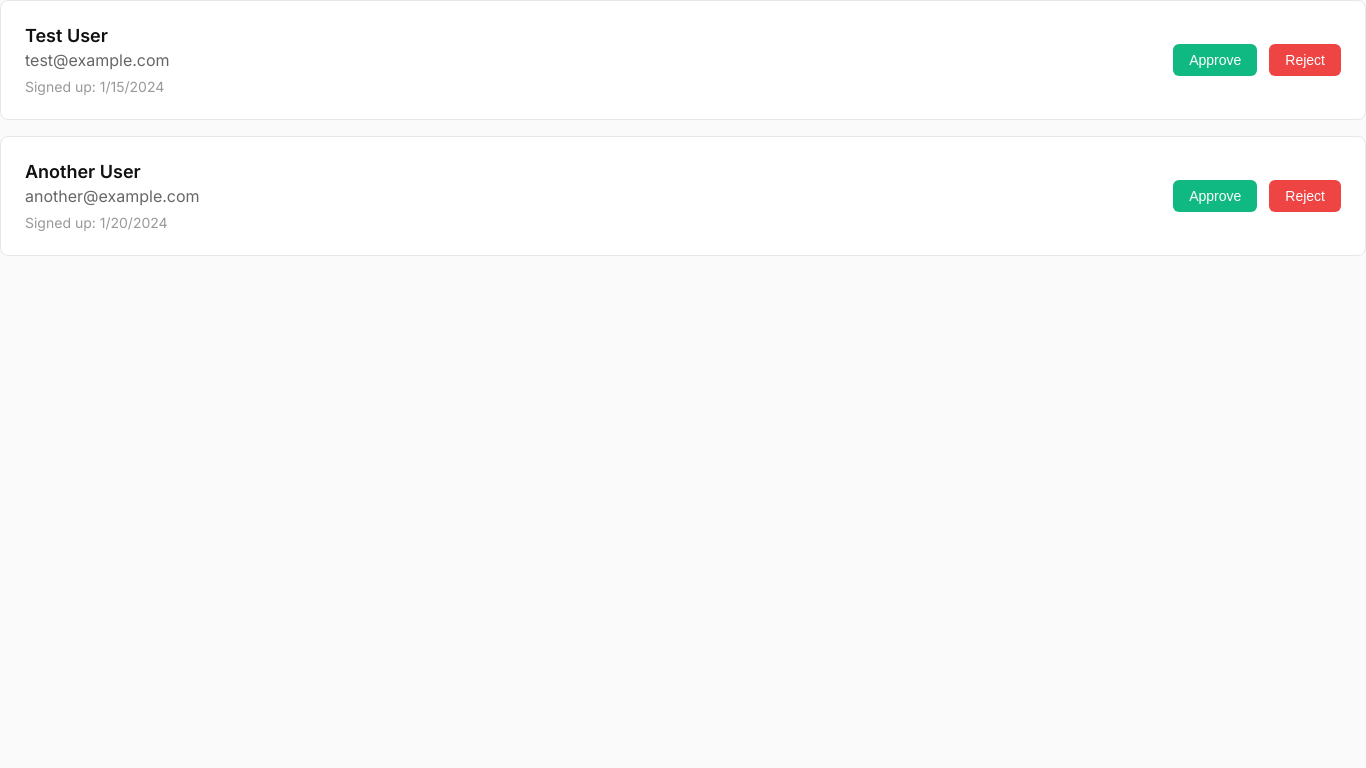
Test case: UserList › shows confirmation modal when reject is clicked
Click the button "Reject" in the row of "test@example.com".
click(1305, 60)  # box x1=1269 y1=44 x2=1341 y2=76
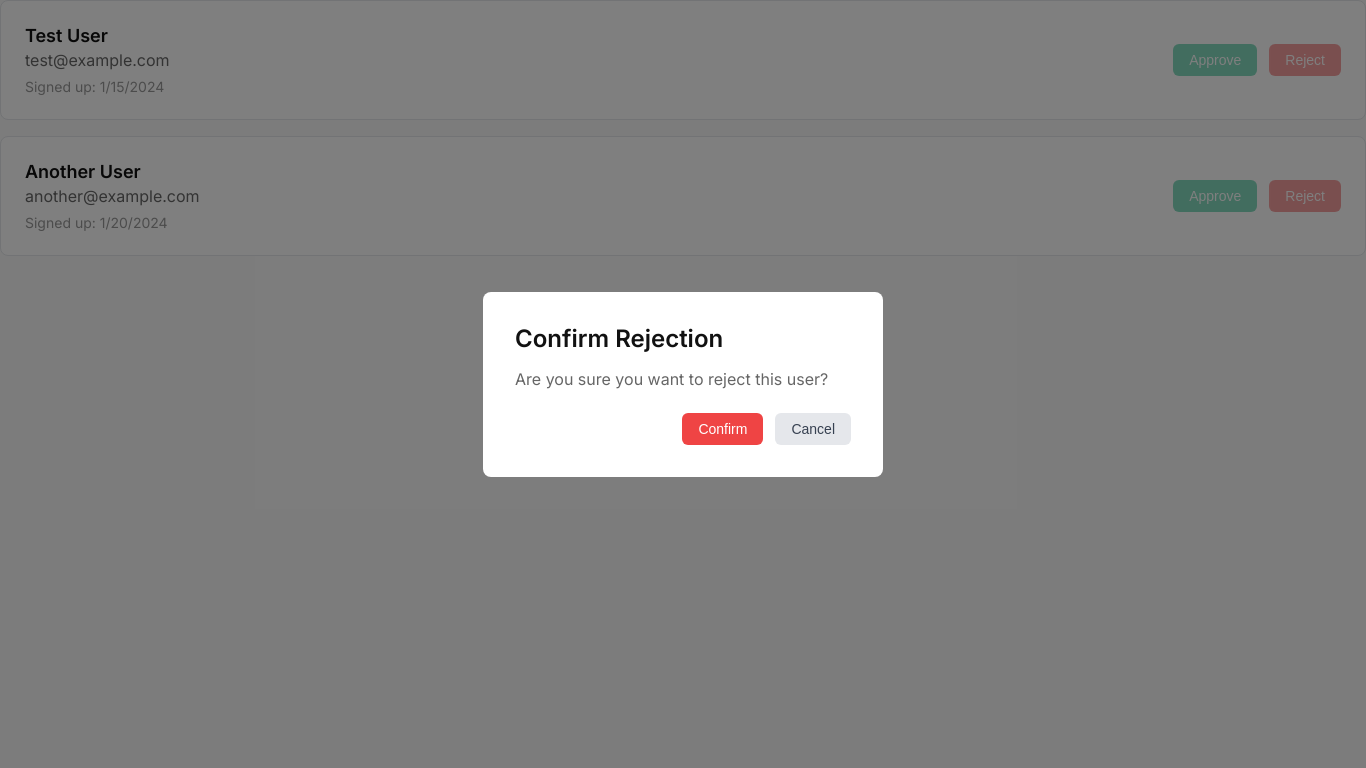
Result: the heading "Confirm Rejection" is shown at x1=515 y1=324 x2=723 y2=352
Result: the text "Are you sure you want to reject this user?" is shown at x1=515 y1=368 x2=851 y2=388
